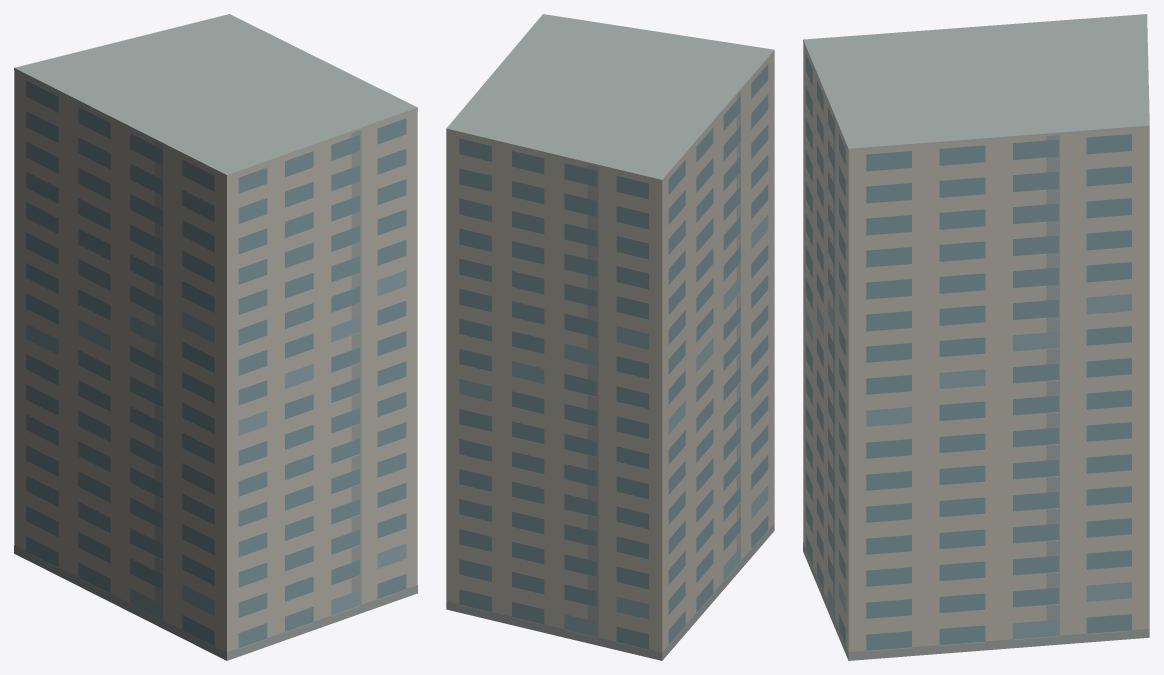
The model's file is residential-03863f91-4141-4dad-bc55-cbbc9576d749.glb.
3 renders of one model, left to right at view 1: azimuth 30°, elevation 25°; view 2: azimuth 150°, elevation 25°; view 3: azimuth 270°, elevation 25°, orthographic. The views are drawn at different scales.
Parts seen in each view (by area): view 1: residential-03863f91-4141-4dad-bc55-cbbc9576d749.tmp; view 2: residential-03863f91-4141-4dad-bc55-cbbc9576d749.tmp; view 3: residential-03863f91-4141-4dad-bc55-cbbc9576d749.tmp.
Boxes of the visible parts, x1,y1,x2,y2 form: residential-03863f91-4141-4dad-bc55-cbbc9576d749.tmp: (14, 14, 417, 660); residential-03863f91-4141-4dad-bc55-cbbc9576d749.tmp: (446, 14, 774, 660); residential-03863f91-4141-4dad-bc55-cbbc9576d749.tmp: (803, 14, 1149, 660).
Bounding box in the file's own units: 28.23 × 50 × 30.68.
